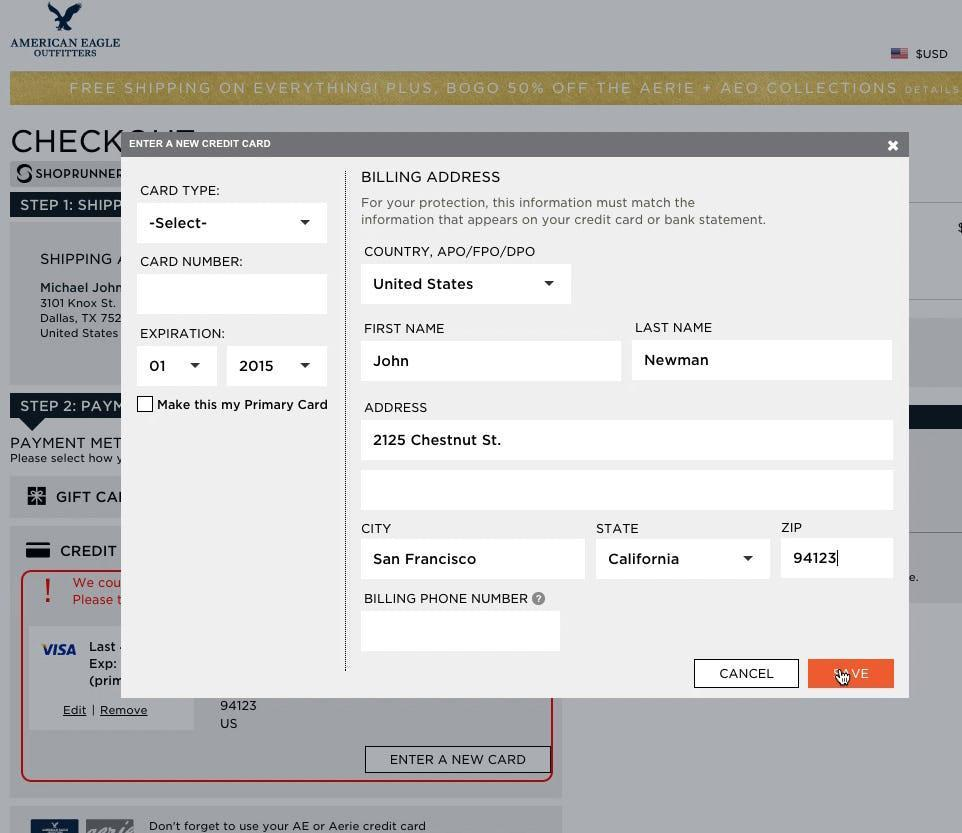button: (696, 660, 800, 690), (807, 658, 898, 689)
checkbox: (137, 395, 157, 417)
dropdown: (356, 265, 575, 311), (137, 204, 331, 249), (591, 540, 774, 586), (223, 345, 327, 394), (134, 344, 220, 391)
icon: (531, 590, 548, 605)
input: (355, 467, 898, 520), (355, 418, 894, 466), (634, 335, 897, 387), (357, 337, 625, 388), (364, 539, 589, 588), (360, 608, 565, 656), (136, 272, 332, 320), (778, 537, 899, 587)
label: (364, 242, 540, 262), (362, 588, 531, 608), (157, 399, 332, 412), (136, 178, 222, 200), (364, 320, 447, 340), (138, 254, 243, 268), (136, 327, 231, 341), (634, 320, 713, 336), (360, 400, 428, 416), (356, 519, 400, 537), (594, 523, 644, 538), (782, 519, 802, 534)
